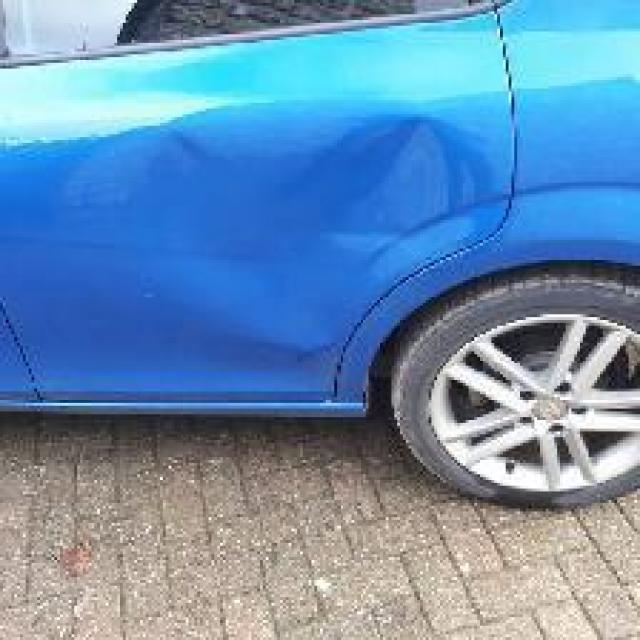damaged: (94, 111, 517, 378)
